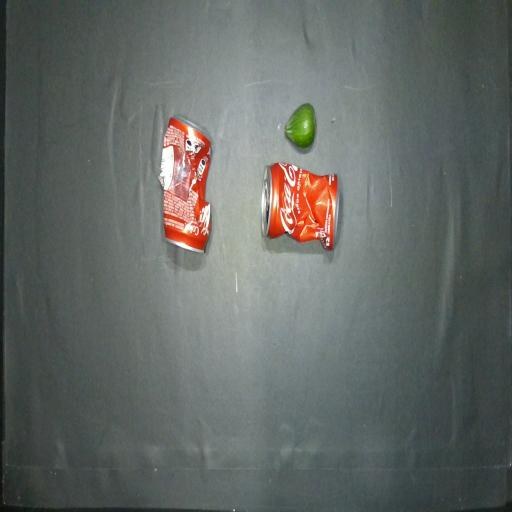higo: (285, 103, 316, 148)
lata_defectuoso: (159, 117, 212, 252), (261, 162, 340, 250)
